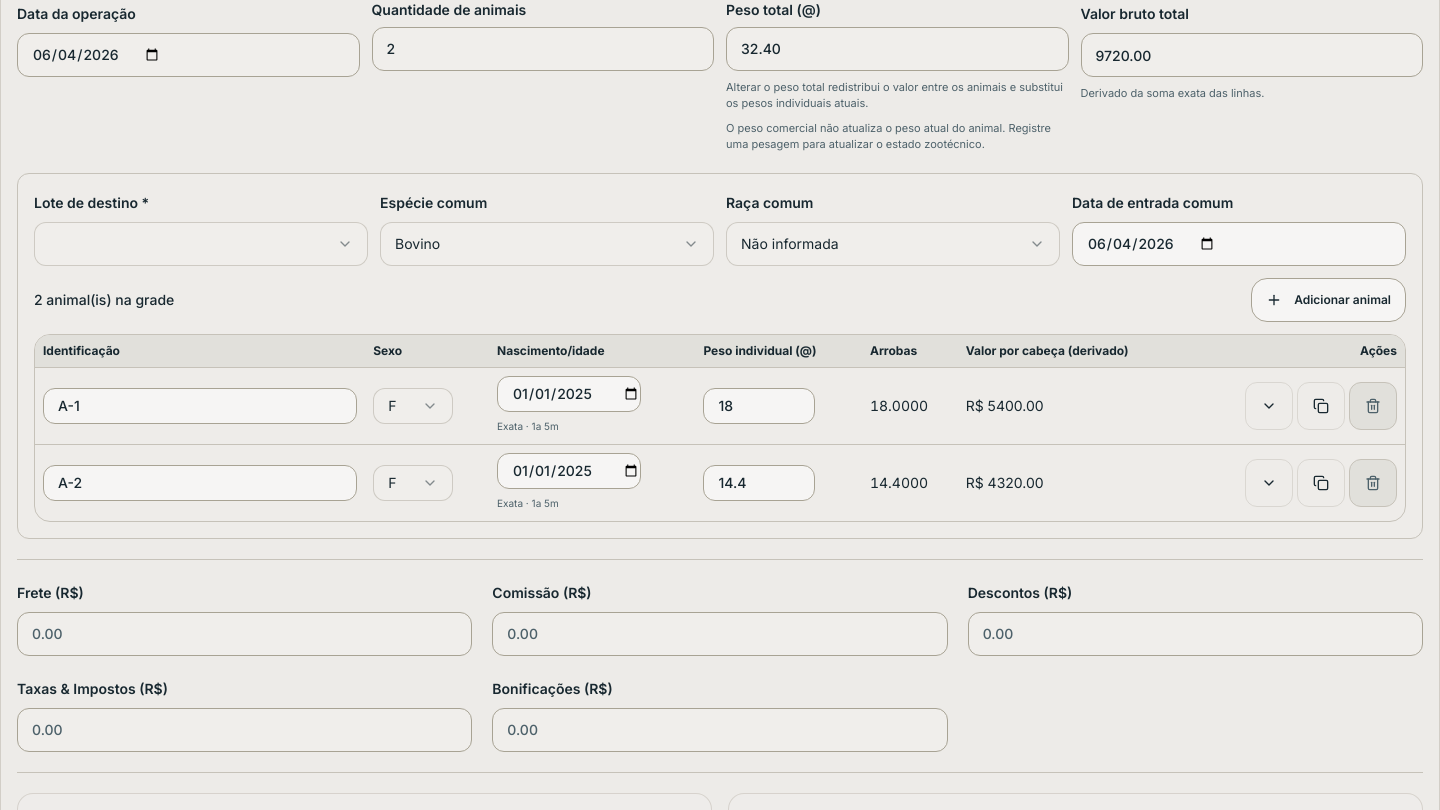
Test case: RegistrarComercialSection › recalcula arrobas, valores e bruto ao alterar peso e preço por arroba
The width and height of the screenshot is (1440, 810).
(page scrolled)
Expected: the text "18.0000" is shown, x1=862 y1=367 x2=958 y2=444
Expected: the text "R$ 5400.00" is shown, x1=966 y1=396 x2=1044 y2=414
Step 1. Replace the text in the number field named "Peso animal 1" with "20" → (759, 406), box x1=703 y1=388 x2=815 y2=424
(page scrolled)
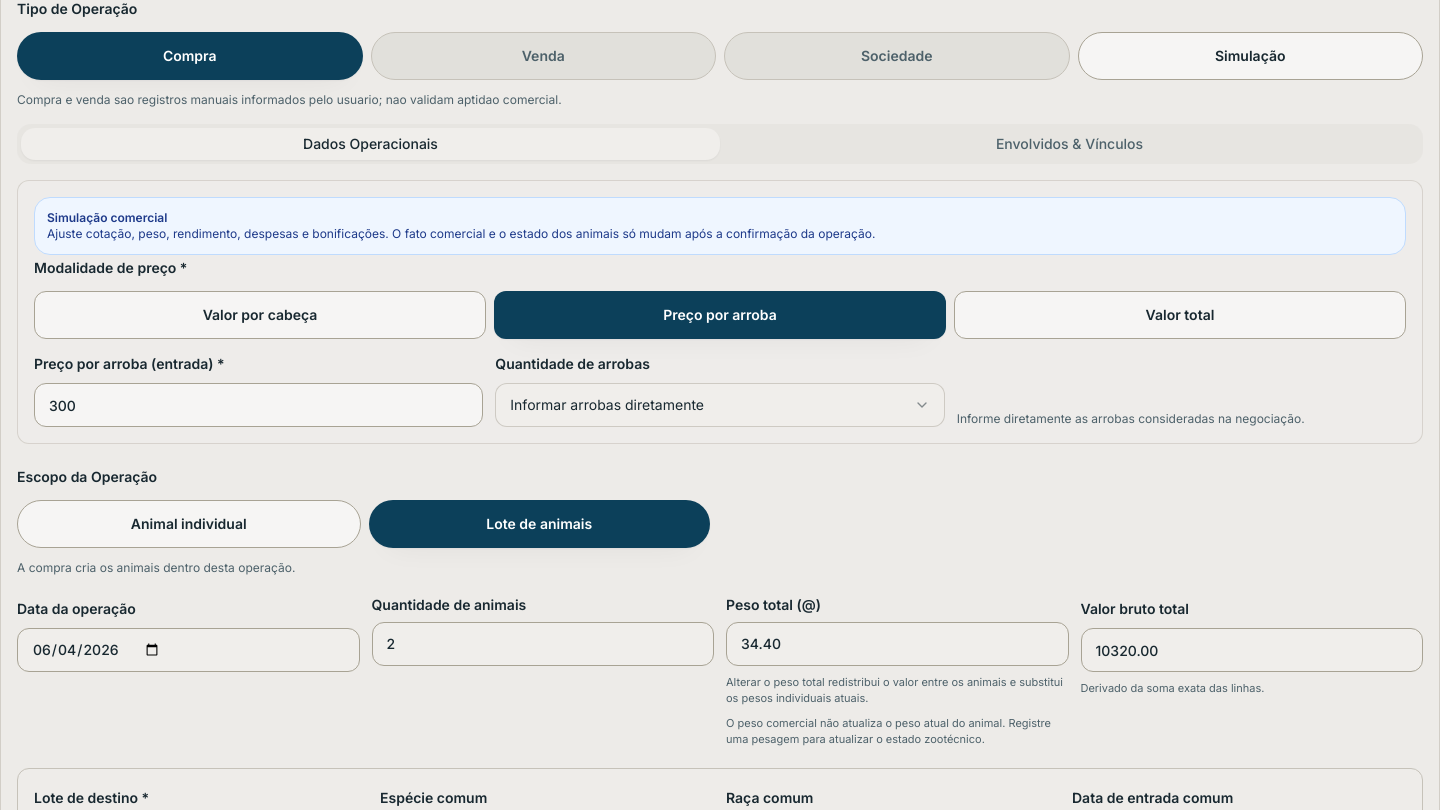
Expected: the number field named "Valor Bruto (R$)" holds "10320", x1=1080 y1=628 x2=1423 y2=672
Step 2. Replace the text in the number field named "Preço por arroba" with "310" → (259, 405), box x1=34 y1=383 x2=483 y2=427
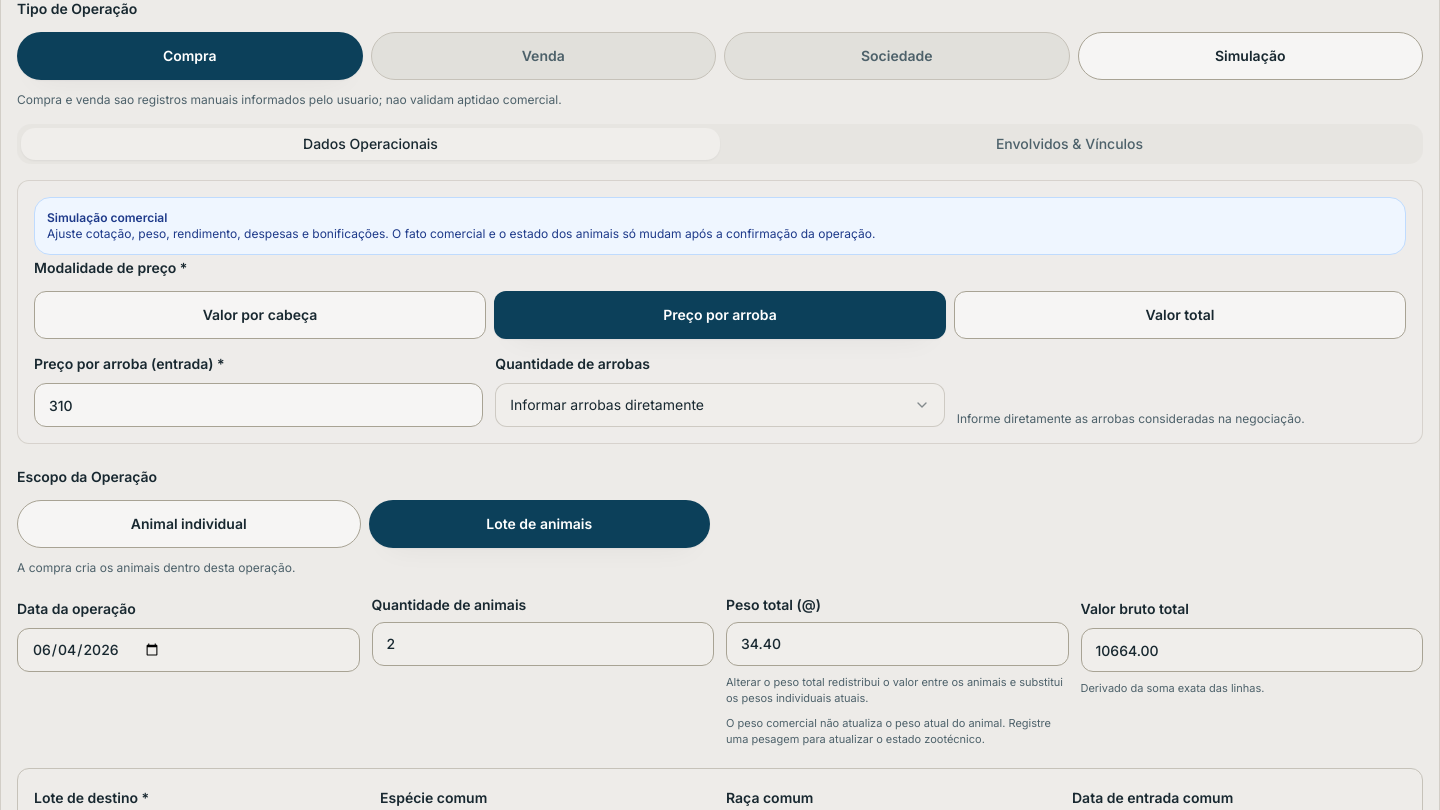
Expected: the number field named "Valor Bruto (R$)" holds "10664", x1=1080 y1=628 x2=1423 y2=672
